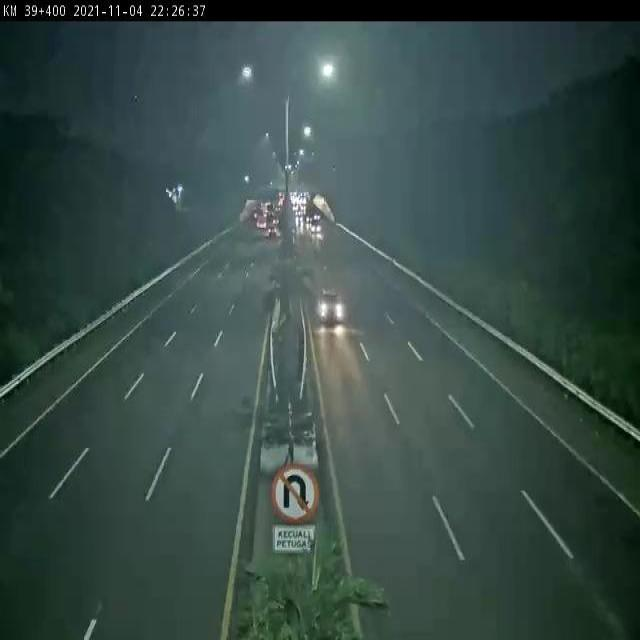car: (302, 285, 366, 359)
